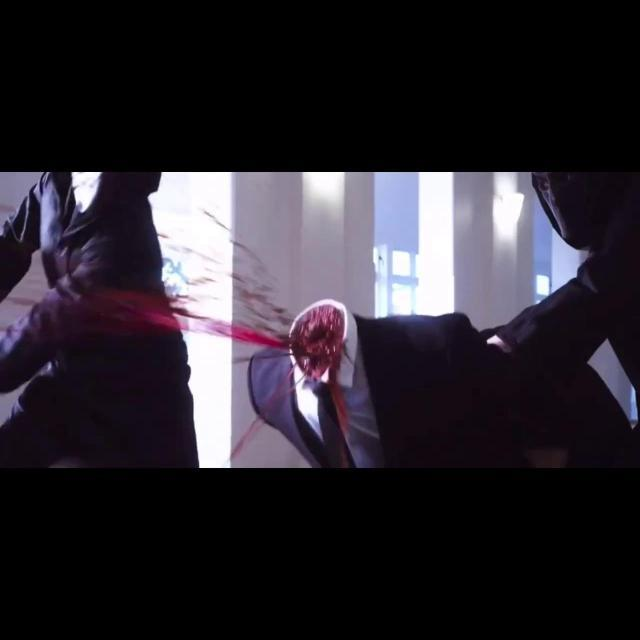blood: (100, 228, 350, 444), (232, 362, 305, 456), (196, 207, 272, 291), (194, 277, 219, 284)
